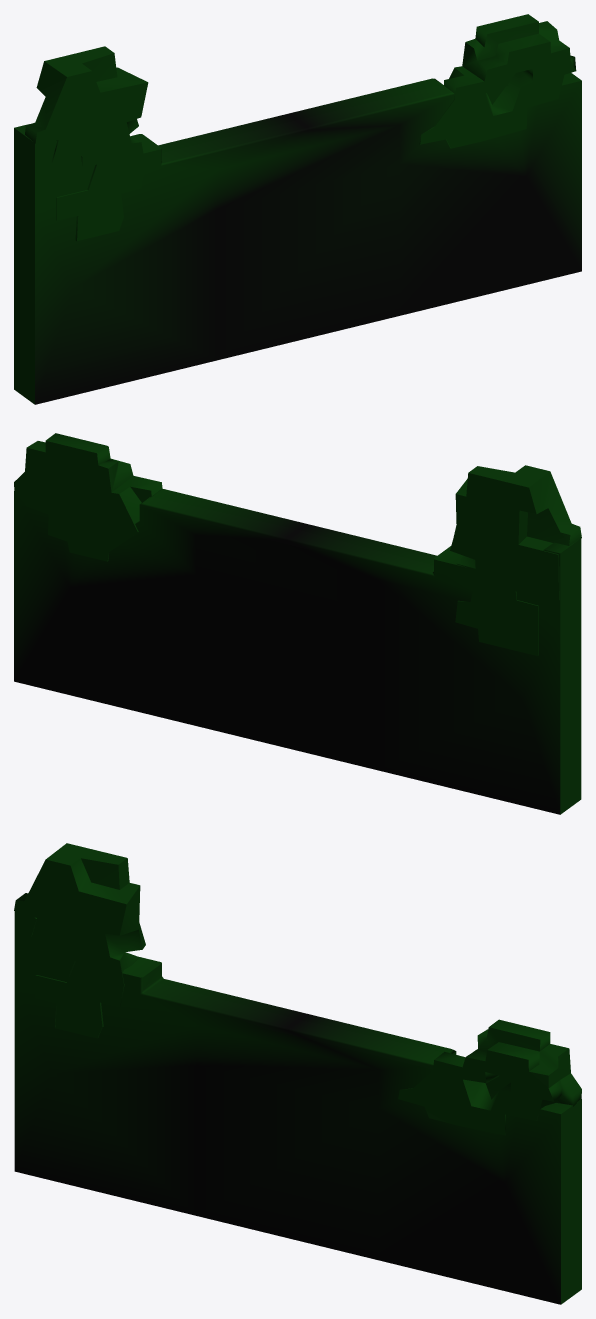
The model's file is DBK_Brick_WinWide_Tile.fbx.
3 views of the same model, one above another, from view 1: azimuth 30°, elevation 25°; view 2: azimuth 150°, elevation 25°; view 3: azimuth 330°, elevation 25° (orthographic).
Parts seen in each view (by area): view 1: DBK_Brick_WinWide_Tile; view 2: DBK_Brick_WinWide_Tile; view 3: DBK_Brick_WinWide_Tile.
Part boxes in pixels (left/top/right/bottom): DBK_Brick_WinWide_Tile: left=14, top=14, right=581, bottom=404; DBK_Brick_WinWide_Tile: left=14, top=433, right=581, bottom=814; DBK_Brick_WinWide_Tile: left=14, top=843, right=581, bottom=1304.
Bounding box in the file's own units: 300 × 168 × 21.
